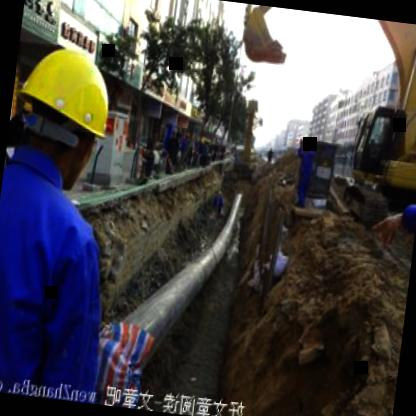helmet: (3, 24, 128, 190)
